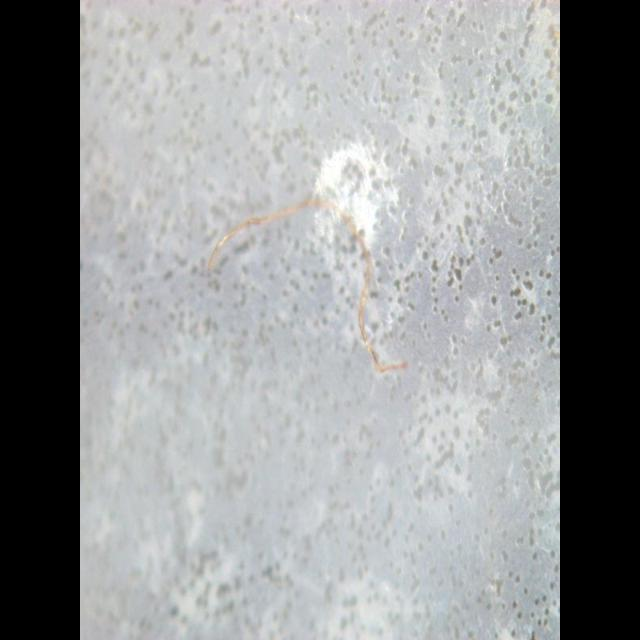Fibre: (207, 193, 409, 375)
